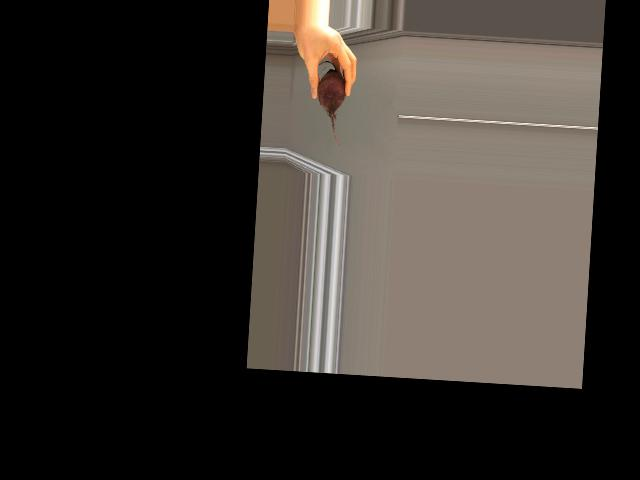beet: (313, 61, 346, 150)
